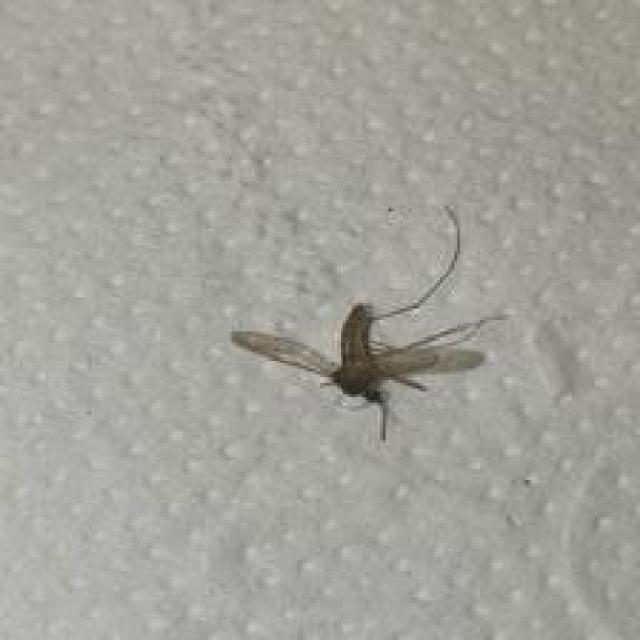Culex: (230, 203, 507, 443)
